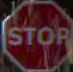Stop: (1, 1, 72, 71)
